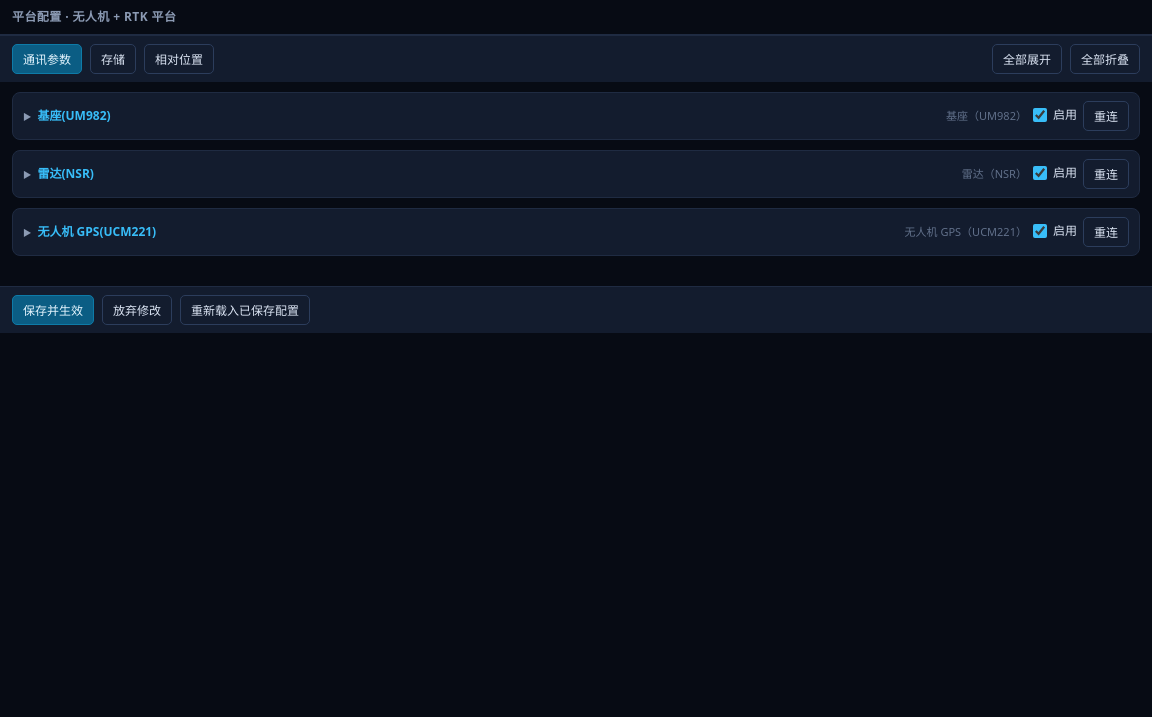
Test: ConfigPanel › 默认的「通讯参数」页签渲染出三个设备区块与真实配置值
This screenshot has width=1152, height=717.
Click the button "全部展开": point(1027, 59) 992,44 -> 1062,74
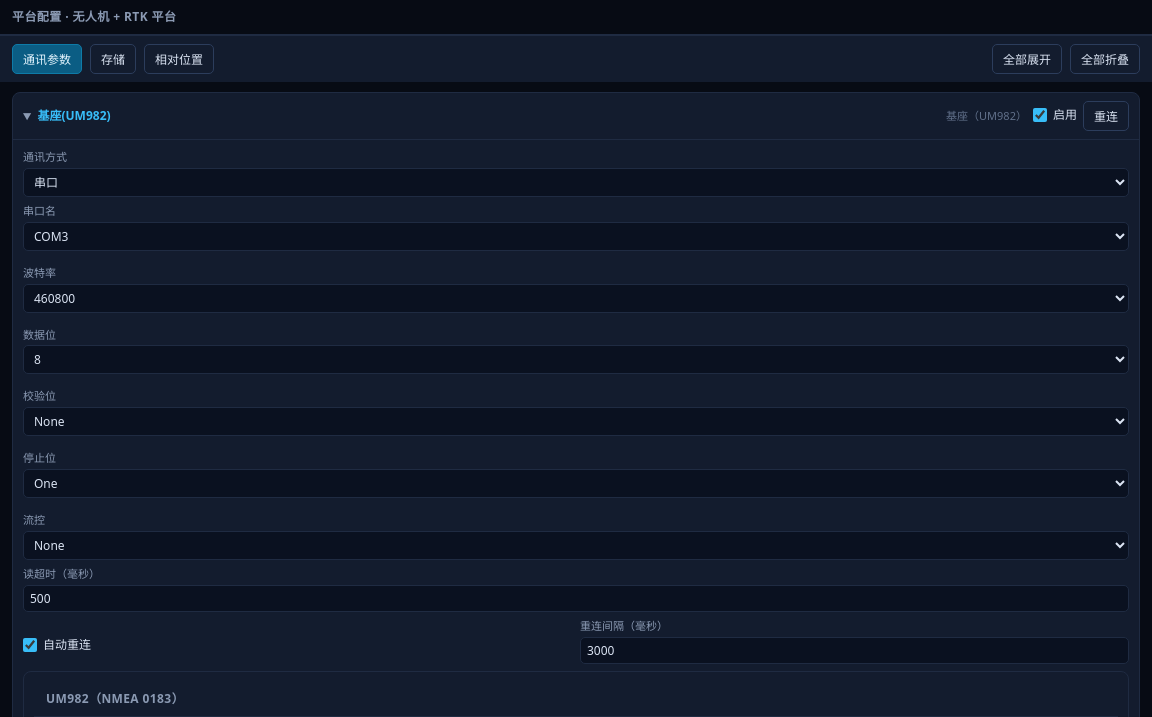
Expected: the text "UM982（NMEA 0183）" is shown, 46,690 -> 184,707
Expected: the dropdown labelled "串口名" shows "COM3", 23,222 -> 1129,251
Expected: the dropdown labelled "波特率" is shown, 23,284 -> 1129,312
